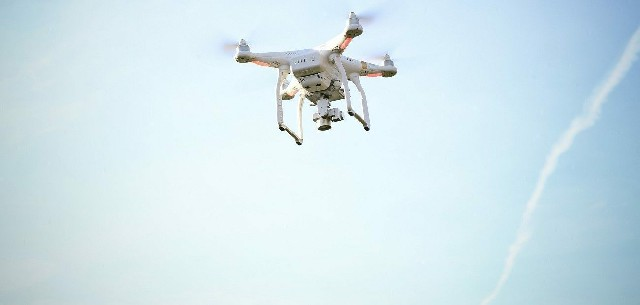maybay_khongnguoilai: (221, 19, 423, 139)
